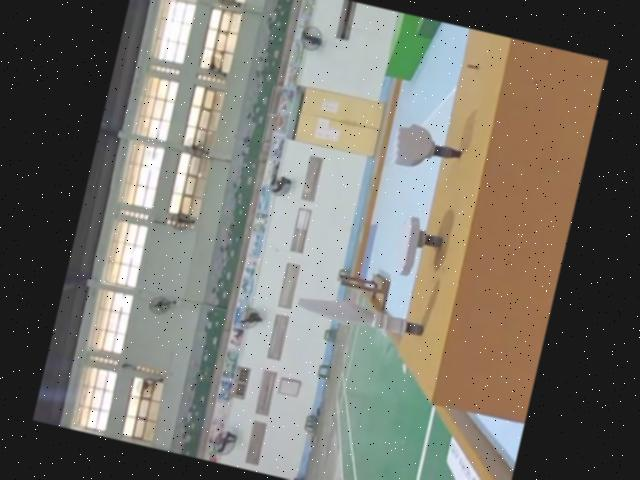Fist: (387, 119, 465, 178)
Hand: (390, 212, 450, 282)
Sph: (293, 286, 429, 342)
